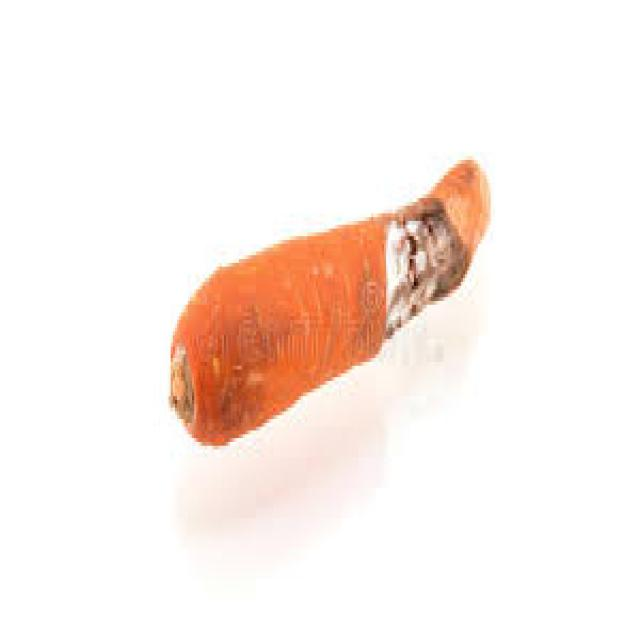Stale_Carrot: (148, 114, 507, 484)
